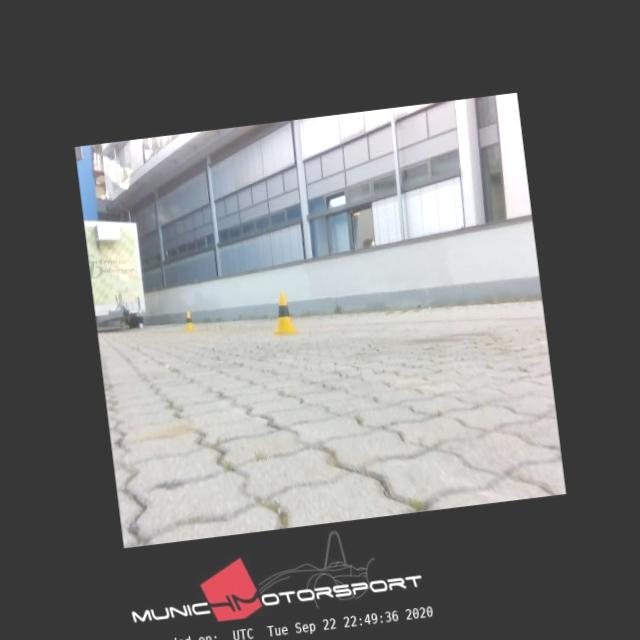yellow_cone: (268, 291, 298, 336), (181, 310, 195, 331)
